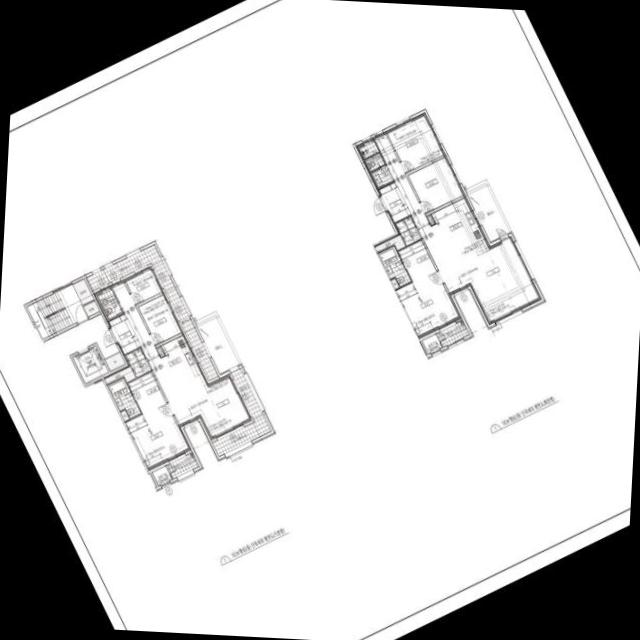background: (0, 0, 640, 640)
space_balconi: (86, 244, 219, 381), (213, 369, 272, 456), (437, 321, 470, 347), (167, 453, 199, 479)
space_bedroom: (396, 271, 462, 338), (126, 403, 191, 470), (387, 112, 445, 173), (409, 157, 465, 213), (139, 294, 183, 344), (125, 266, 163, 304)
space_dressroom: (128, 372, 167, 414), (399, 240, 437, 282)
space_elevator: (73, 346, 109, 383)
space_elevator_hall: (45, 314, 120, 362)
space_front: (378, 182, 412, 223), (108, 313, 141, 355)
space_kitchen: (432, 197, 487, 256), (162, 335, 205, 388)
space_living_room: (374, 132, 542, 324), (112, 280, 252, 440)
space_other: (126, 348, 151, 377), (397, 217, 421, 245), (73, 279, 94, 305), (375, 235, 406, 252), (105, 367, 136, 384), (105, 352, 125, 371), (84, 301, 100, 316), (391, 279, 400, 289), (121, 410, 129, 421), (157, 346, 165, 357), (427, 215, 435, 225)
space_outdoor_room: (152, 466, 172, 486), (423, 334, 442, 354)
space_staircase: (28, 284, 88, 339)
space_toilet: (360, 141, 393, 187), (378, 246, 412, 287), (108, 378, 141, 418), (97, 289, 123, 319)
